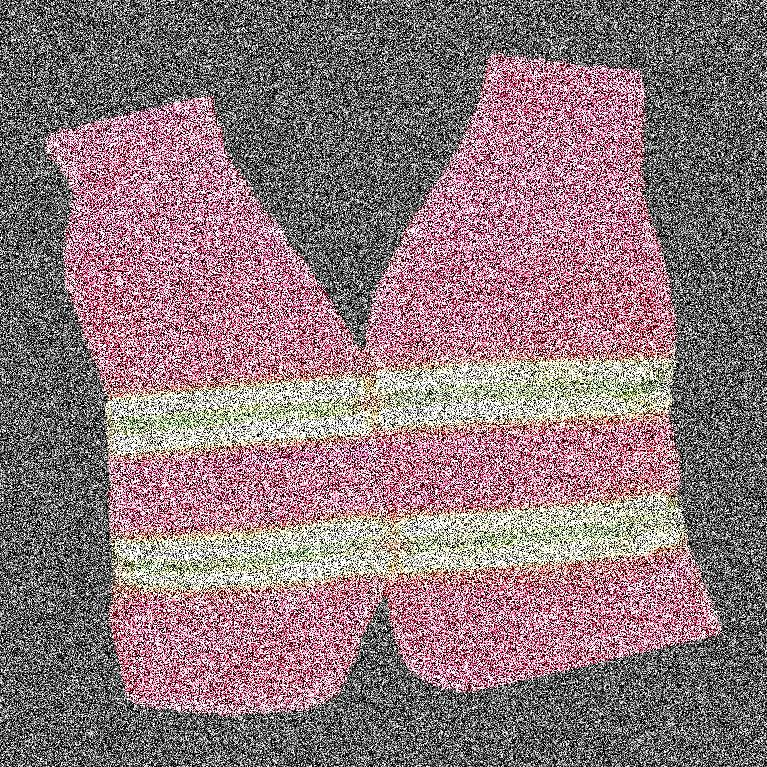Colete: (212, 0, 609, 766)
